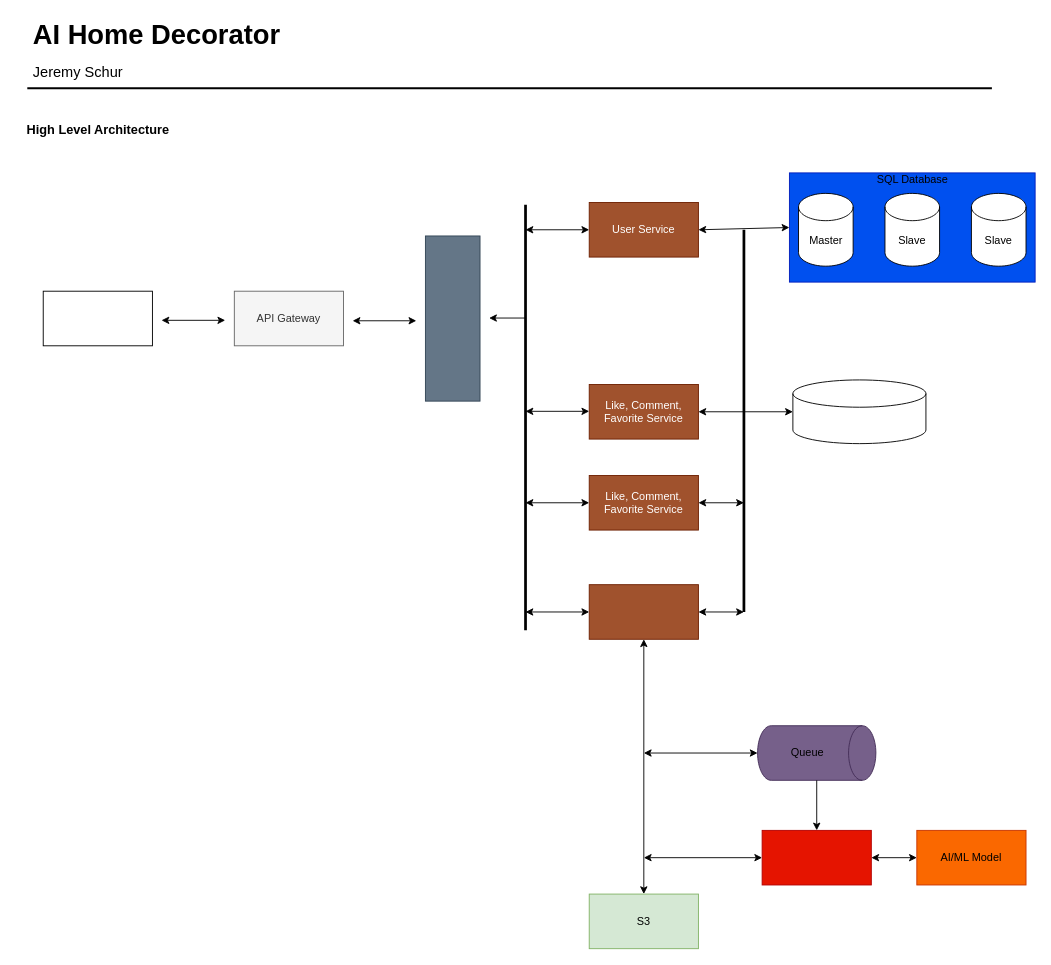
Image size: 1051x965. Some labels were removed from this diagram. The shapes that lost their labels are listed below. From the top down, each one's centre as x and y in pixels, then its label:
point (97, 318): App
point (452, 318): Load Balancer
point (859, 411): NoSQL Database
point (643, 611): Image Service
point (816, 857): Image Processing Worker
